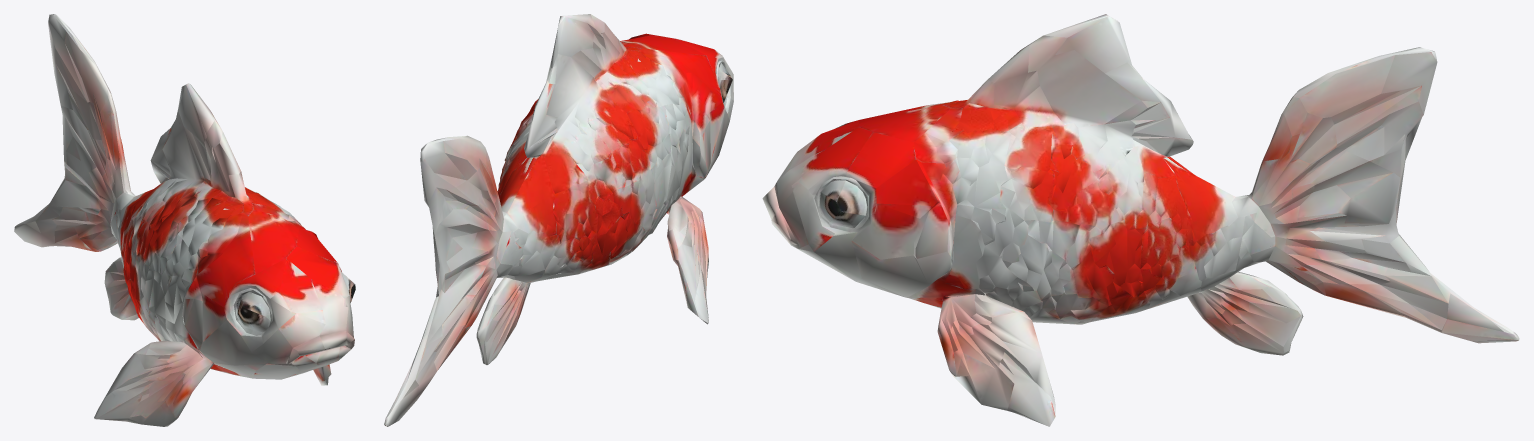
File: carp.glb
3 views of the same model, side by side, from view 1: azimuth 30°, elevation 25°; view 2: azimuth 150°, elevation 25°; view 3: azimuth 270°, elevation 25° (orthographic). The views are drawn at different scales.
Size of the model in its own units: 0.8139 by 0.9559 by 1.9.
Materials: 1 (1 with a texture image).
